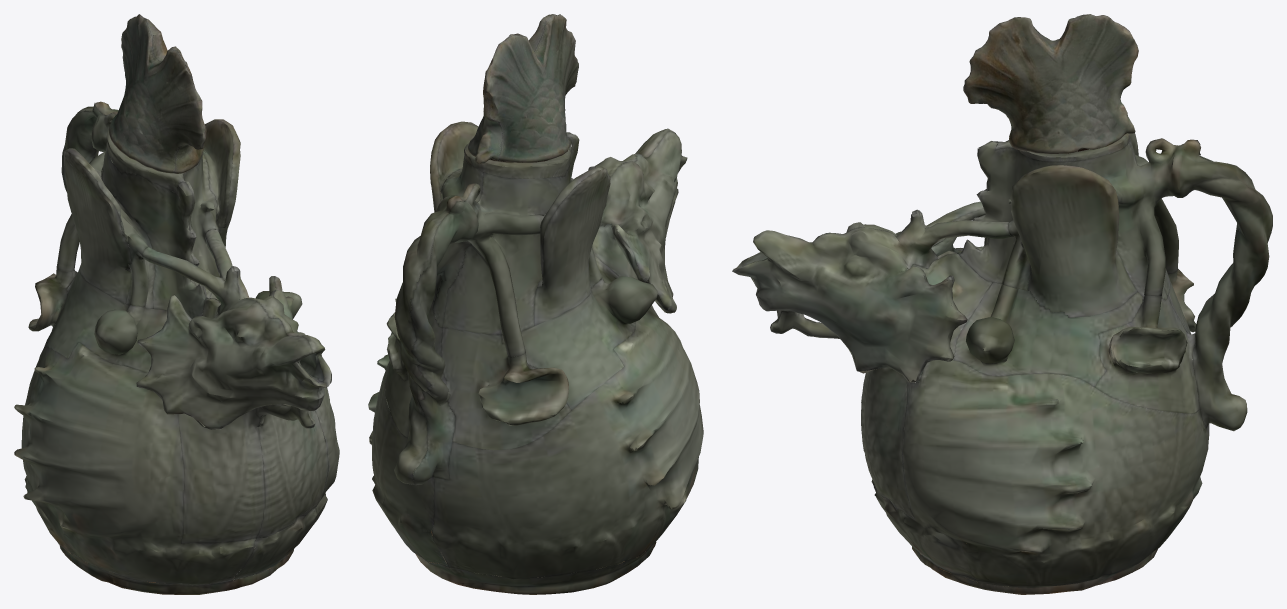
File: celadon-ewer.glb
3 views of the same model, side by side, from view 1: azimuth 30°, elevation 25°; view 2: azimuth 150°, elevation 25°; view 3: azimuth 270°, elevation 25° (orthographic). The views are drawn at different scales.
Parts seen in each view (by area): view 1: gae000002-001-30000, gae000002-002-30000; view 2: gae000002-001-30000, gae000002-002-30000; view 3: gae000002-001-30000, gae000002-002-30000.
Part boxes in pixels (x1,y1,x2,y2): gae000002-001-30000: (14, 101, 339, 594); gae000002-002-30000: (109, 14, 206, 173); gae000002-001-30000: (368, 121, 703, 594); gae000002-002-30000: (468, 14, 578, 163); gae000002-001-30000: (732, 133, 1272, 594); gae000002-002-30000: (963, 14, 1138, 153).
Size of the model in its own units: 1.28 by 2.2 by 2.03.
2 materials, 2 textured.
